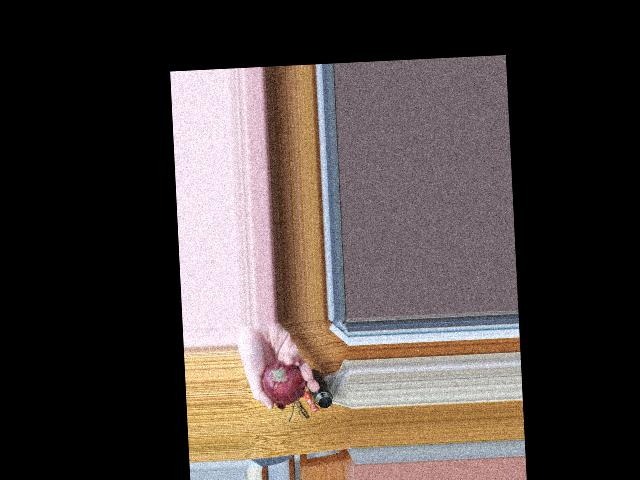onion: (260, 355, 298, 403)
